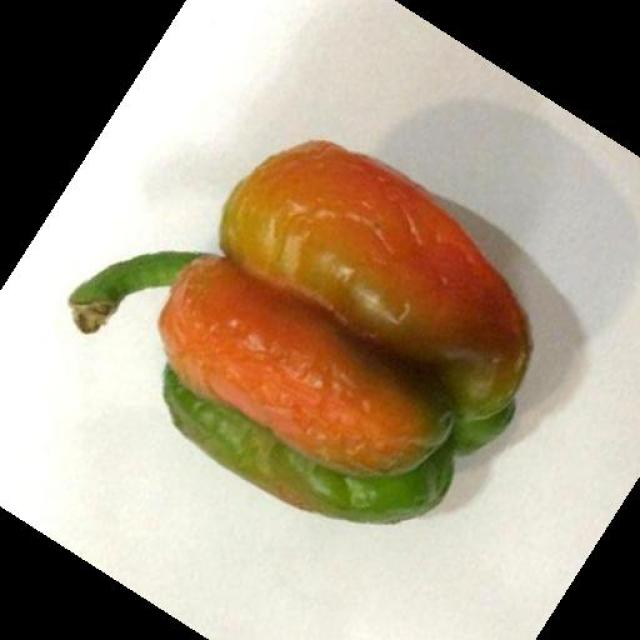Stale_Capsicum: (99, 151, 517, 529)
